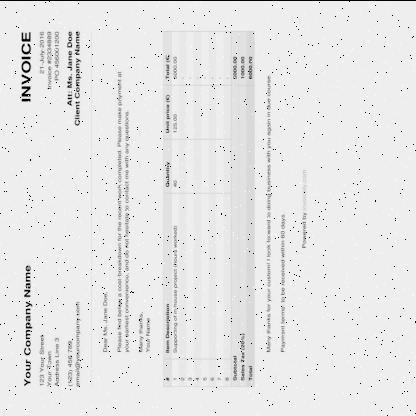Paragraph: (100, 68, 152, 354), (21, 262, 82, 392), (263, 71, 287, 355), (16, 27, 62, 106), (64, 26, 82, 127), (299, 166, 309, 250)
Table: (164, 30, 256, 386)
